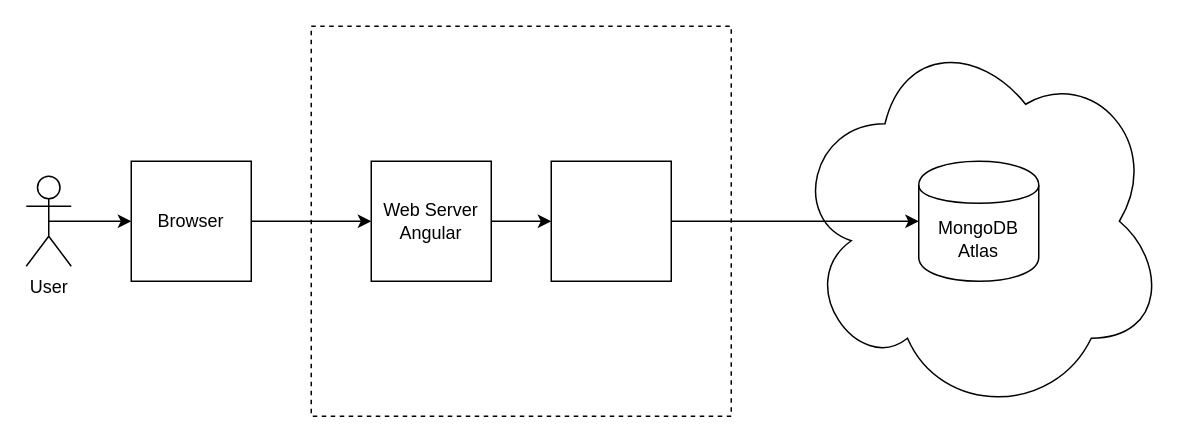
The diagram is 1193 pixels wide and 443 high, and some of its shapes have lost their labels. The box of each missing label's shape, as (x1, y1, x2, y2) in pixels:
3D Library: (310, 25, 731, 416)
DB Server Express: (550, 160, 671, 281)
